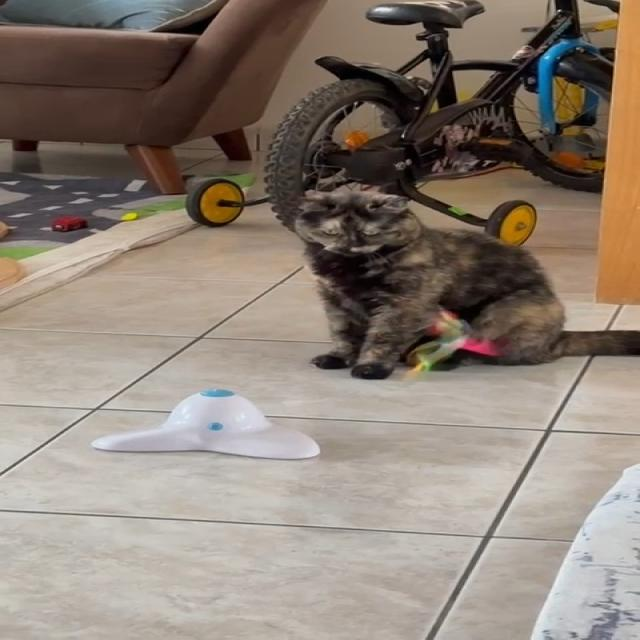authorized: (291, 188, 638, 380)
